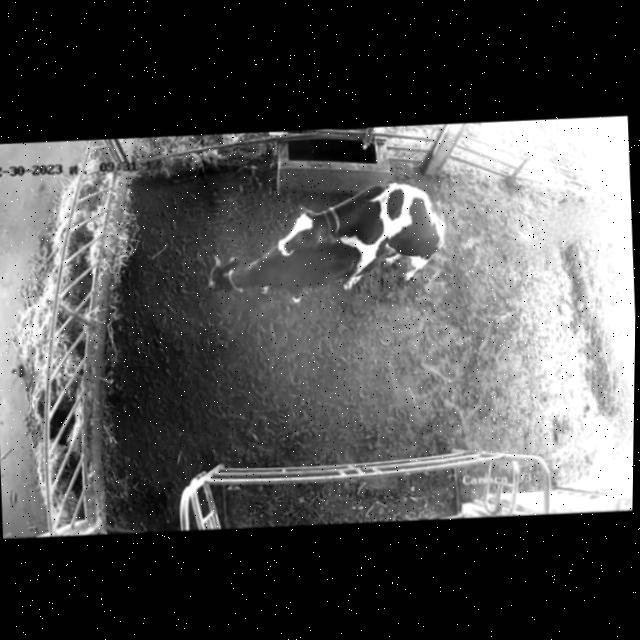ride: (265, 173, 469, 306)
stand: (199, 235, 382, 320)
